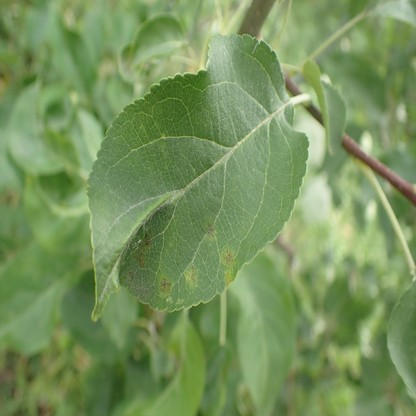scab: (185, 265, 198, 288), (221, 246, 234, 267), (203, 219, 216, 240), (159, 276, 172, 296), (139, 232, 152, 250), (223, 270, 231, 288), (136, 255, 145, 266), (127, 269, 133, 284)
